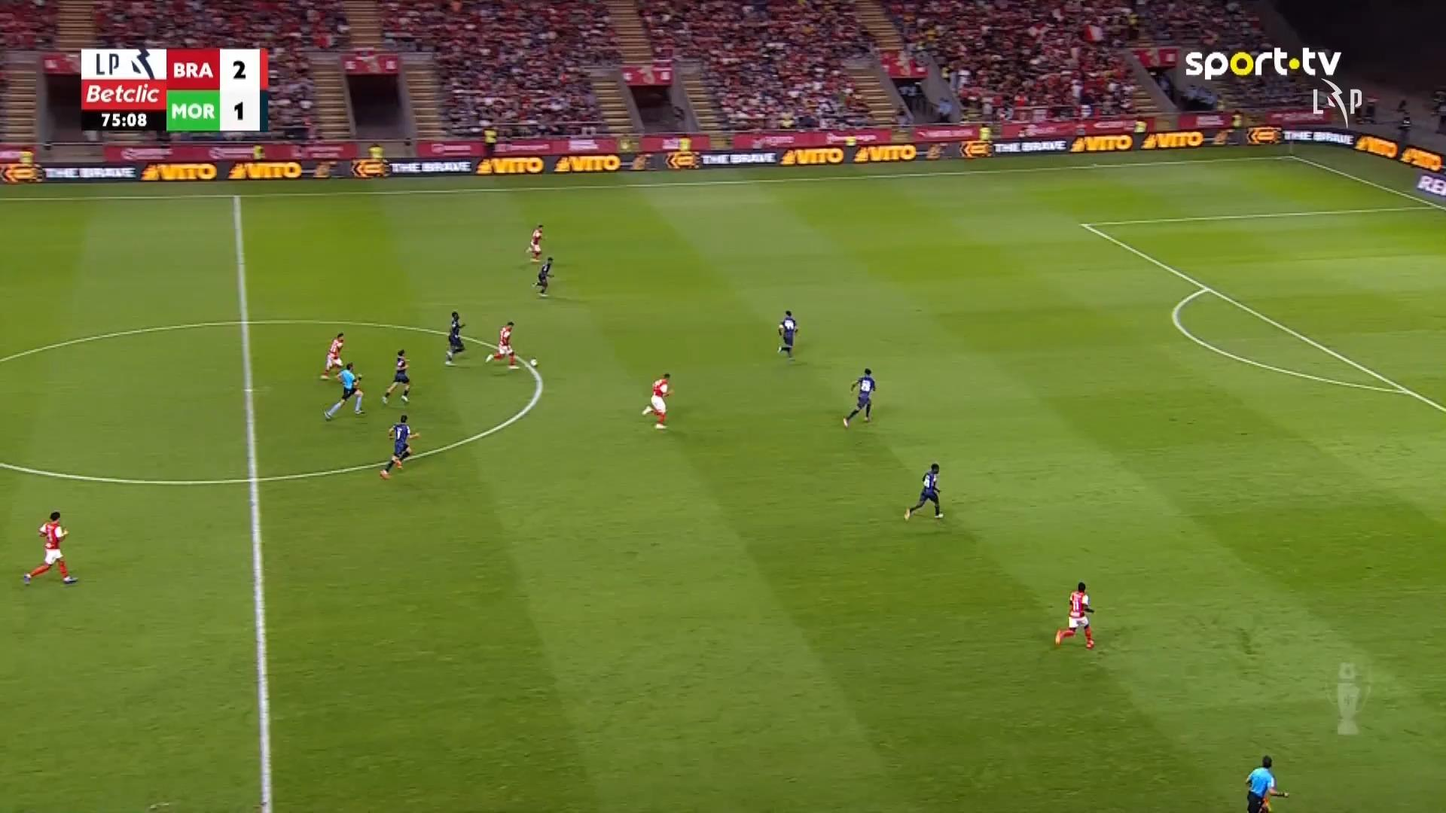ball: (529, 358, 536, 367)
player: (21, 510, 78, 586), (1054, 580, 1095, 649), (379, 413, 419, 480), (1245, 754, 1289, 811), (903, 462, 944, 521), (841, 367, 875, 428), (641, 372, 673, 429), (380, 349, 412, 405), (485, 320, 520, 369), (444, 310, 466, 365), (319, 331, 344, 379), (776, 309, 798, 358), (533, 255, 554, 297), (526, 223, 544, 260)
referee: (323, 361, 365, 421)
